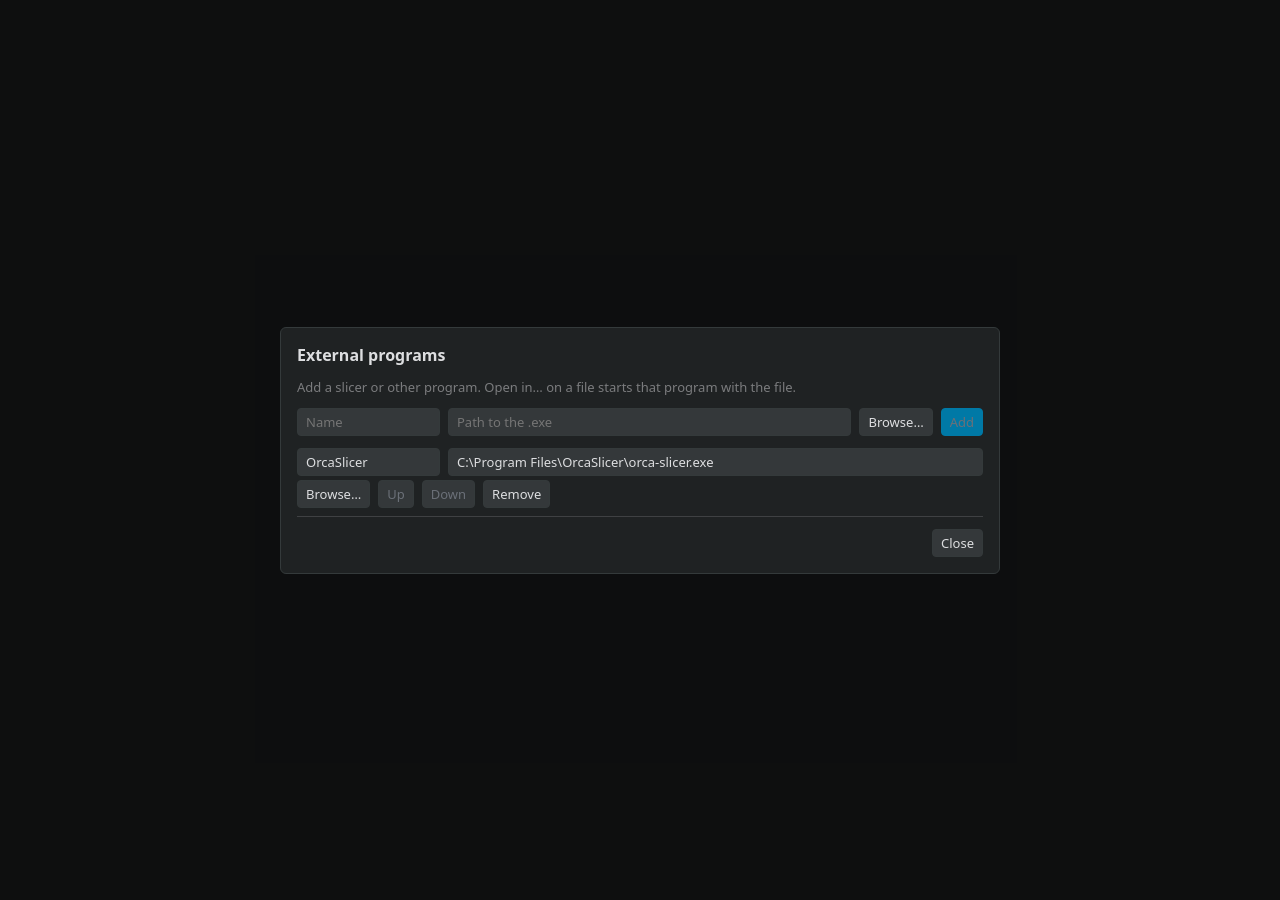
Test: External programs dialog › removes the last program
The image size is (1280, 900).
What coordinates should you click on to do the following:
click the button with aria-label "Remove OrcaSlicer"
I would click on:
 (517, 494)
Its box is 483,480 -> 550,508.
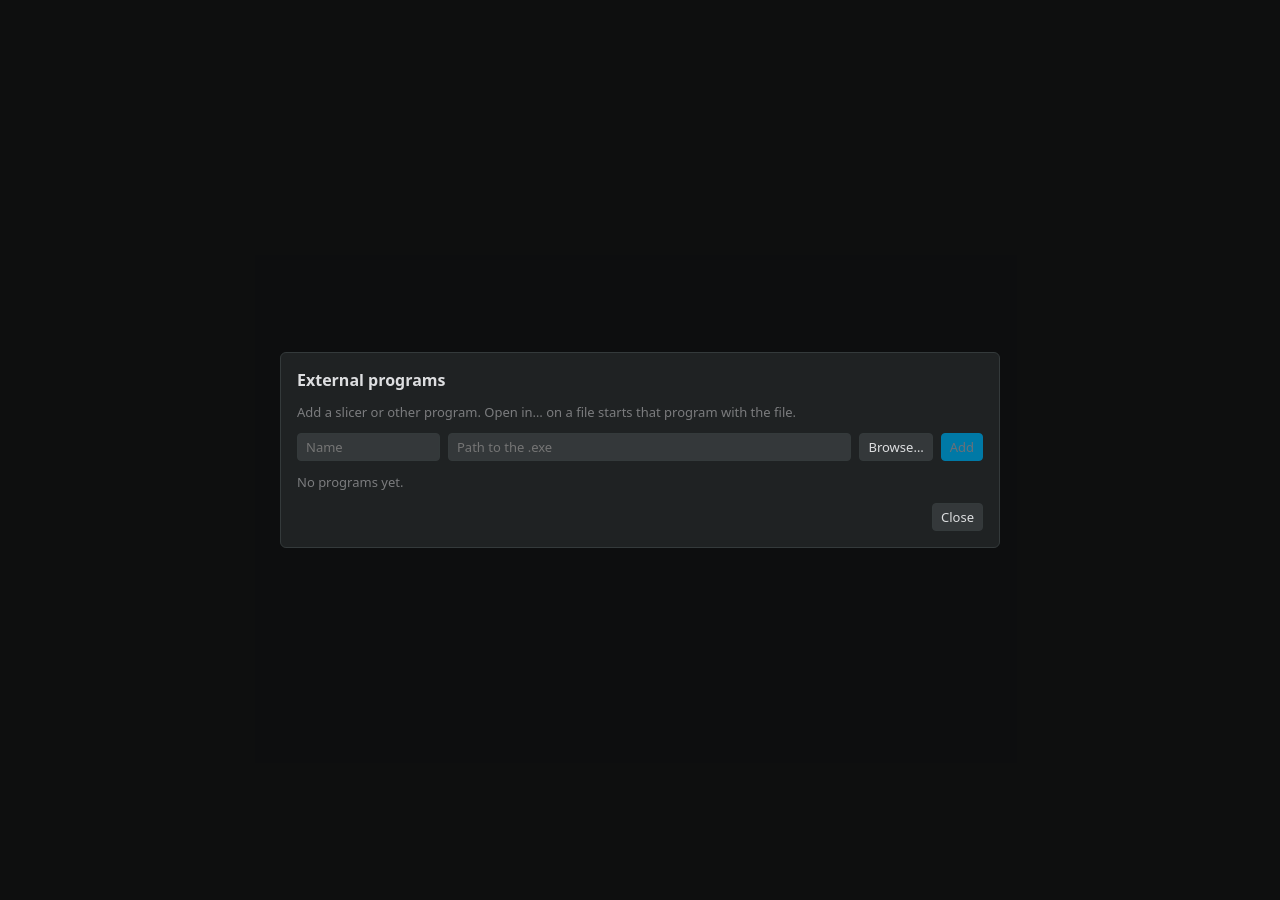
expect the text "No programs yet." is shown: met, box 297,473 -> 403,491
